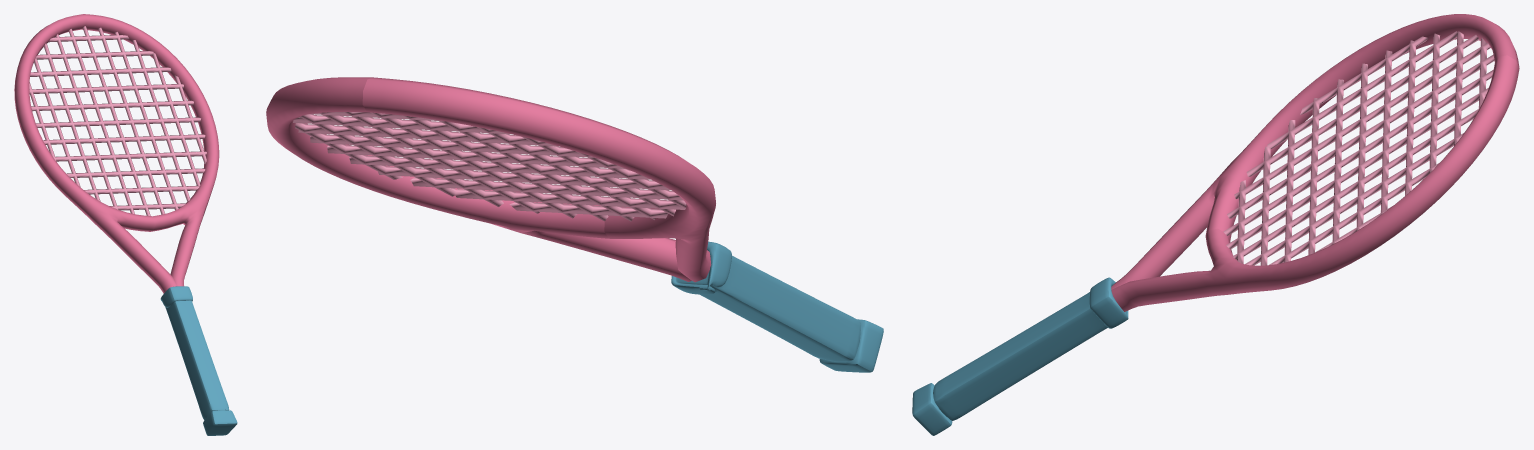
Rendered from racket.glb.
The picture shows the model from 3 angles, left to right: view 1: azimuth 30°, elevation 25°; view 2: azimuth 150°, elevation 25°; view 3: azimuth 270°, elevation 25°; orthographic projection. The views are drawn at different scales.
Visible parts, largest first — view 1: Plane_4, Circle_2, Cube_3; view 2: Circle_2, Plane_4, Cube_3; view 3: Circle_2, Plane_4, Cube_3.
Part boxes in pixels (x1,y1,x2,y2): Plane_4: [29, 26, 206, 215]; Circle_2: [14, 14, 219, 293]; Cube_3: [160, 286, 237, 435]; Circle_2: [266, 77, 715, 282]; Plane_4: [293, 112, 686, 221]; Cube_3: [671, 241, 883, 372]; Circle_2: [1111, 14, 1519, 311]; Plane_4: [1223, 31, 1494, 265]; Cube_3: [912, 277, 1128, 435].
Size of the model in its own units: 1.96 by 2.71 by 3.57.
